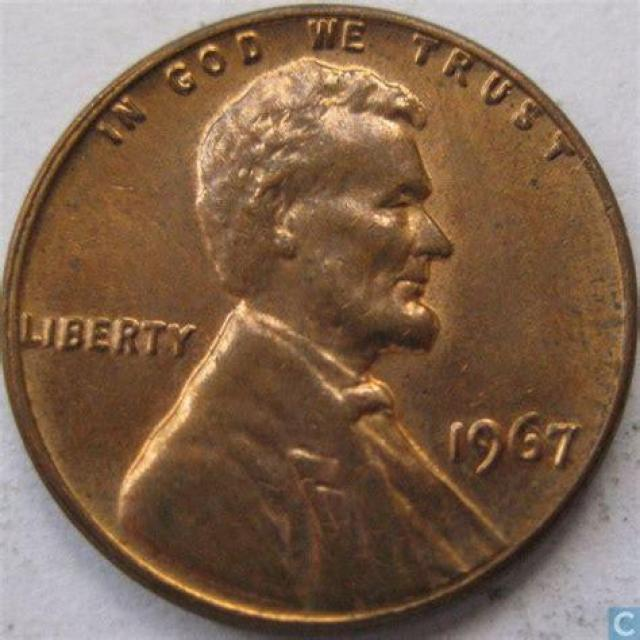Penny: (12, 5, 636, 636)
